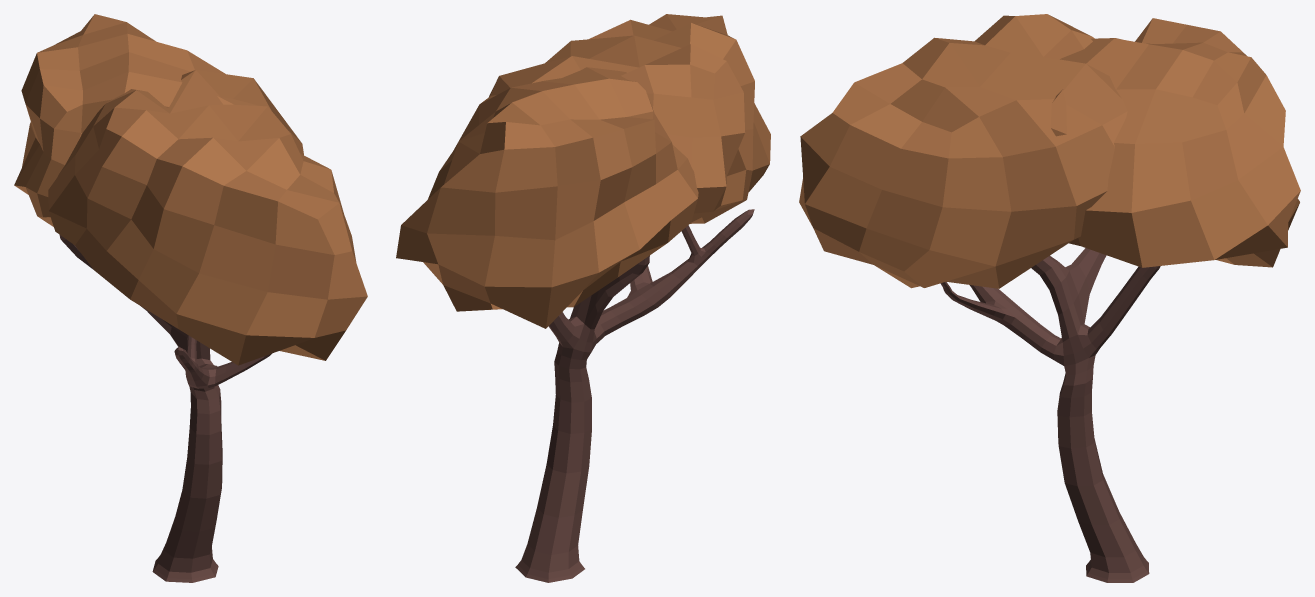
The picture shows the model from 3 angles, left to right: view 1: azimuth 30°, elevation 25°; view 2: azimuth 150°, elevation 25°; view 3: azimuth 270°, elevation 25°; orthographic projection. The views are drawn at different scales.
Visible parts, largest first — view 1: CommonTree_Autumn_5; view 2: CommonTree_Autumn_5; view 3: CommonTree_Autumn_5.
Part boxes in pixels (x1,y1,x2,y2): CommonTree_Autumn_5: (14,14,367,582); CommonTree_Autumn_5: (396,14,770,582); CommonTree_Autumn_5: (799,14,1300,582).
Bounding box in the file's own units: 1.29 × 2.53 × 2.25.
